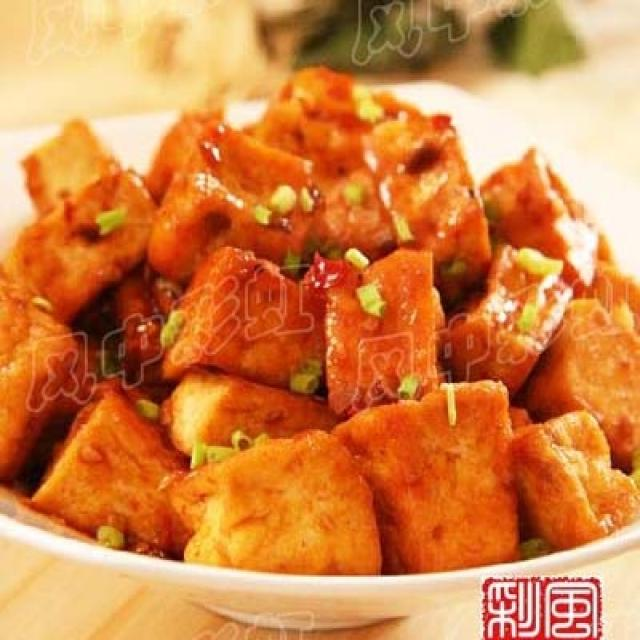豆腐料理: (1, 52, 636, 602)
